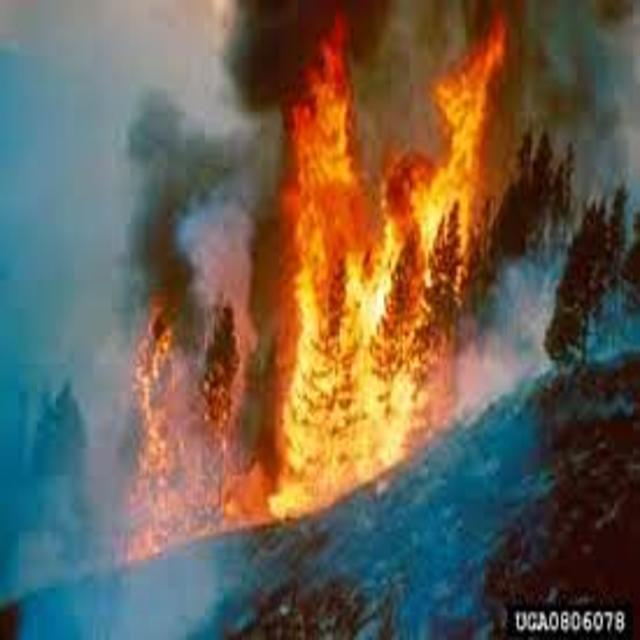Fire: (272, 8, 514, 524), (125, 284, 189, 574)
Smoke: (121, 5, 273, 282), (521, 4, 640, 195)
